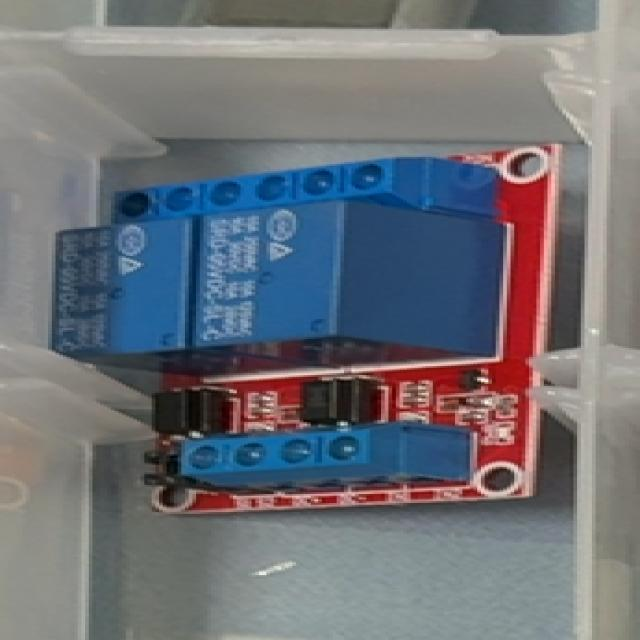Relay: (37, 143, 549, 509)
